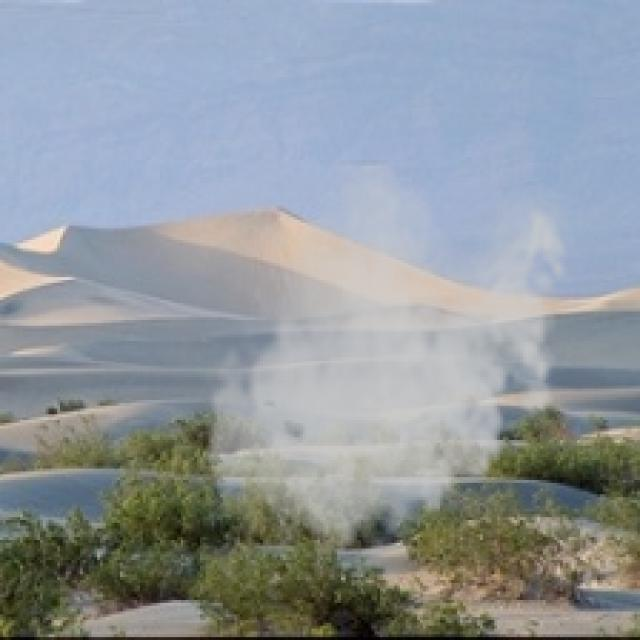smoke: (197, 160, 580, 569)
